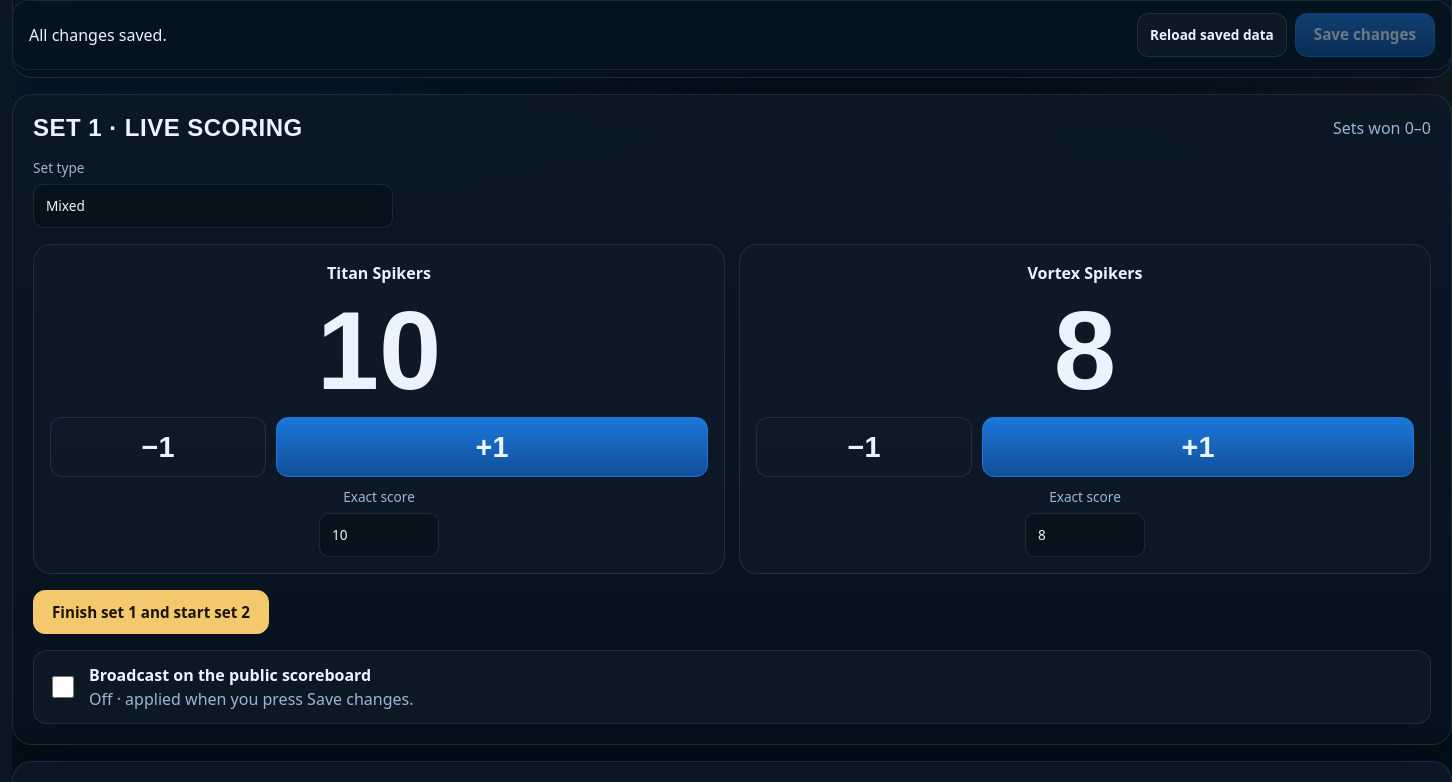
Scenario: match editor: conflicting edits › detects a newer save, lists the differences, and does not overwrite
The width and height of the screenshot is (1452, 782).
(page scrolled)
What coordinates should you click on to do the following:
click the button named "add a point to titan spikers"
I would click on:
 (492, 447)
Its box is [276, 417, 708, 477].
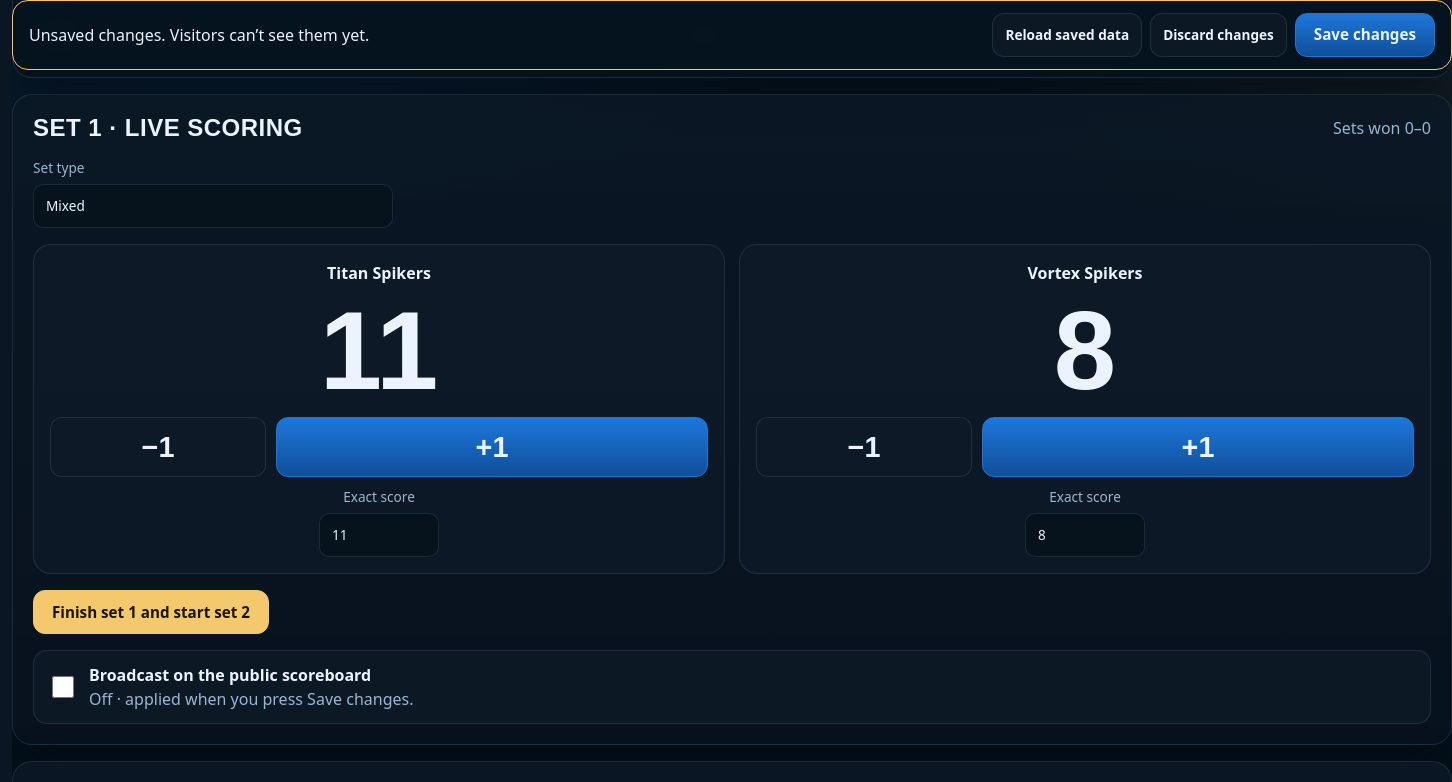
What coordinates should you click on to do the following:
click the button "Save changes"
I would click on:
 (1365, 35)
Its box is [1295, 13, 1435, 57].
(page scrolled)
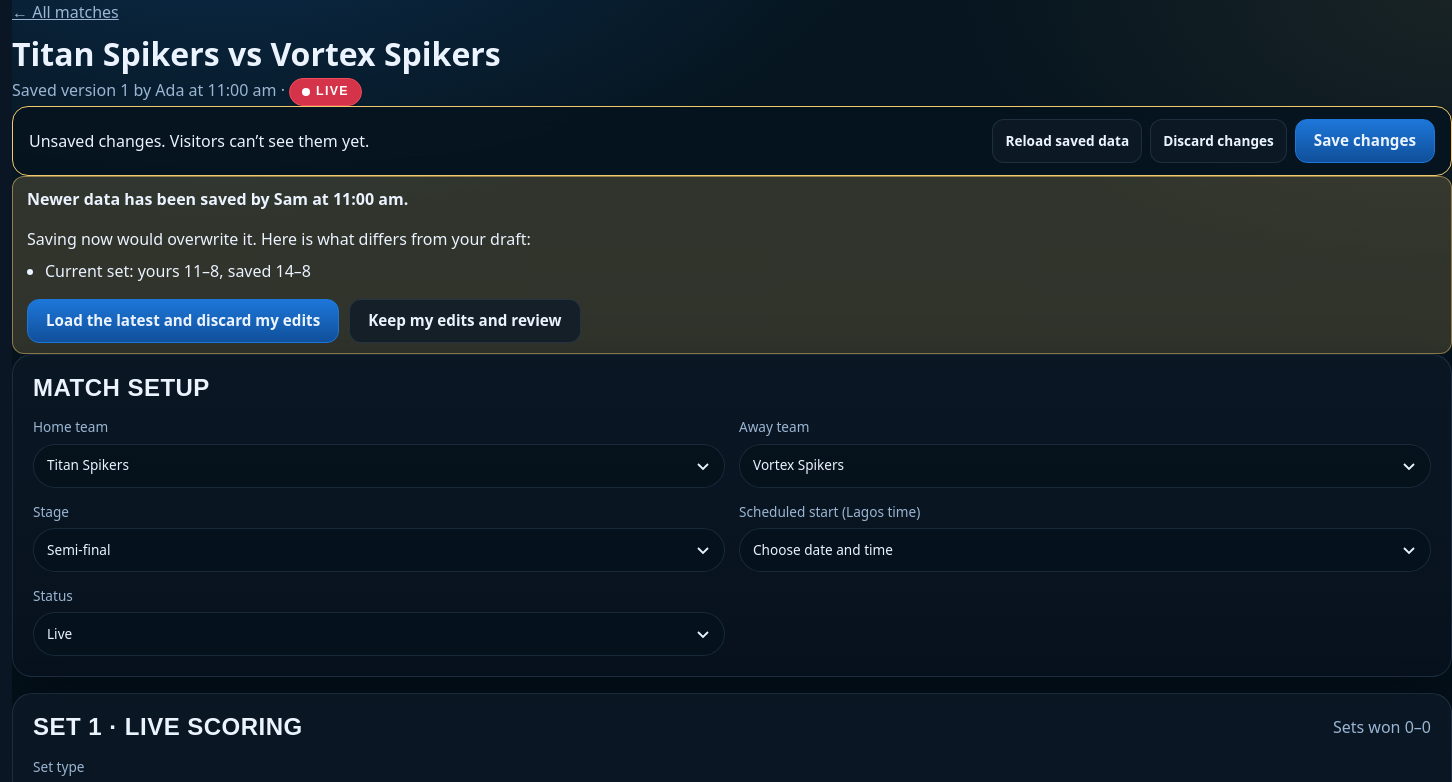
Check: the list item "Current set: yours 11–8, saved 14–8" is shown, box [45, 260, 311, 282]
